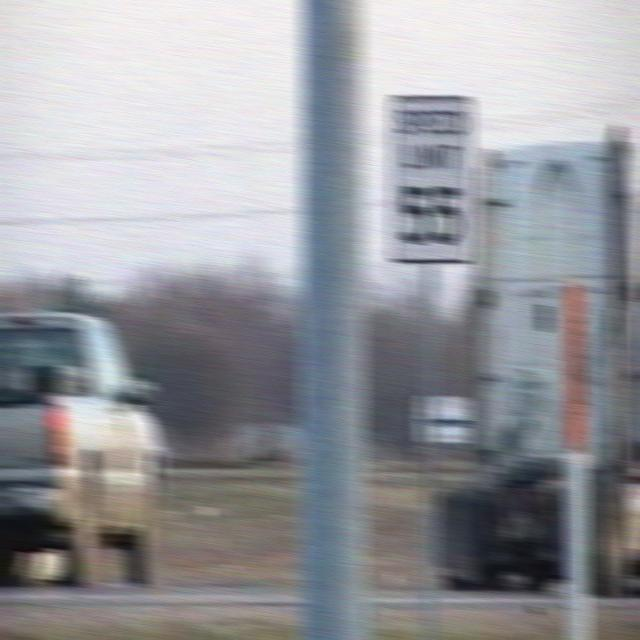speedLimit55: (384, 78, 482, 265)
